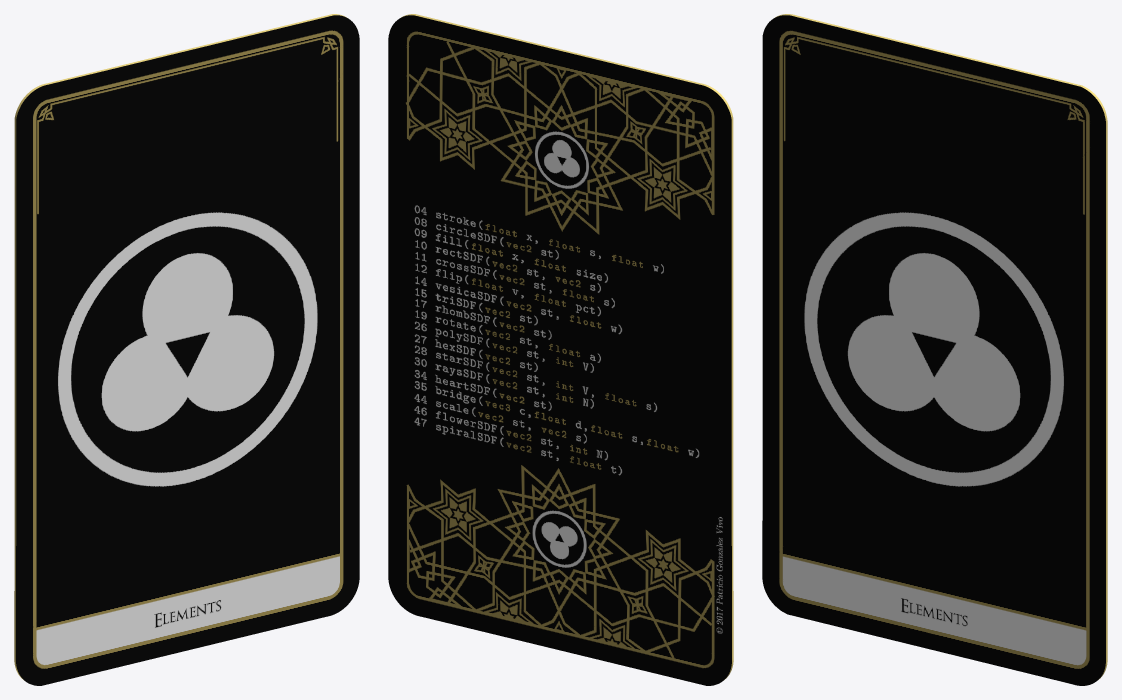
Rendered from card.gltf.
The picture shows the model from 3 angles, left to right: view 1: azimuth 30°, elevation 25°; view 2: azimuth 150°, elevation 25°; view 3: azimuth 330°, elevation 25°; orthographic projection.
Parts seen in each view (by area): view 1: card; view 2: card; view 3: card.
Part boxes in pixels (x1,y1,x2,y2): card: [14, 14, 359, 685]; card: [388, 14, 733, 685]; card: [762, 14, 1107, 685].
Bounding box in the file's own units: 3.21 × 5.35 × 0.0264.
3 materials, 2 textured.
